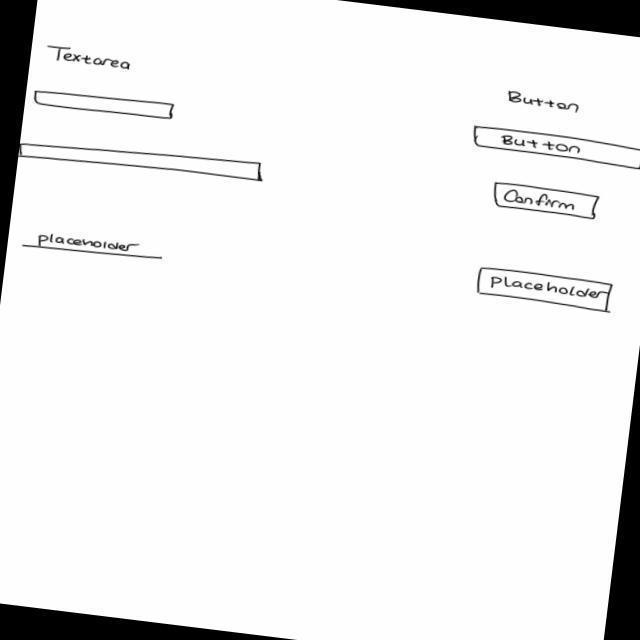button: (467, 123, 640, 173), (473, 265, 616, 316), (490, 181, 604, 224)
container: (19, 132, 267, 189), (32, 85, 179, 125)
input: (21, 224, 165, 266)
label: (46, 45, 136, 74), (503, 91, 584, 117)
